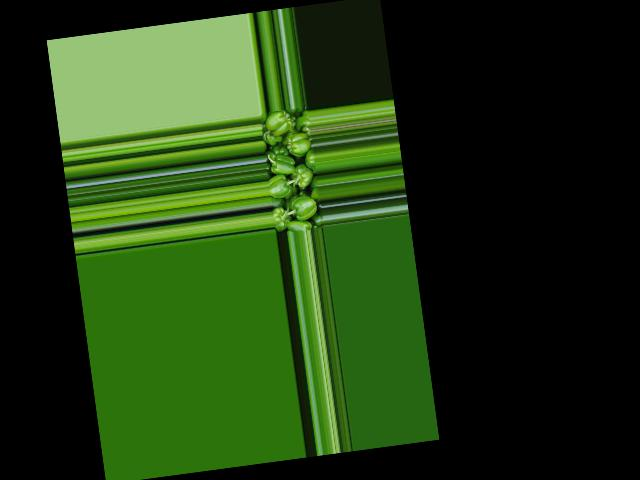bell_pepper: (260, 106, 323, 233)
